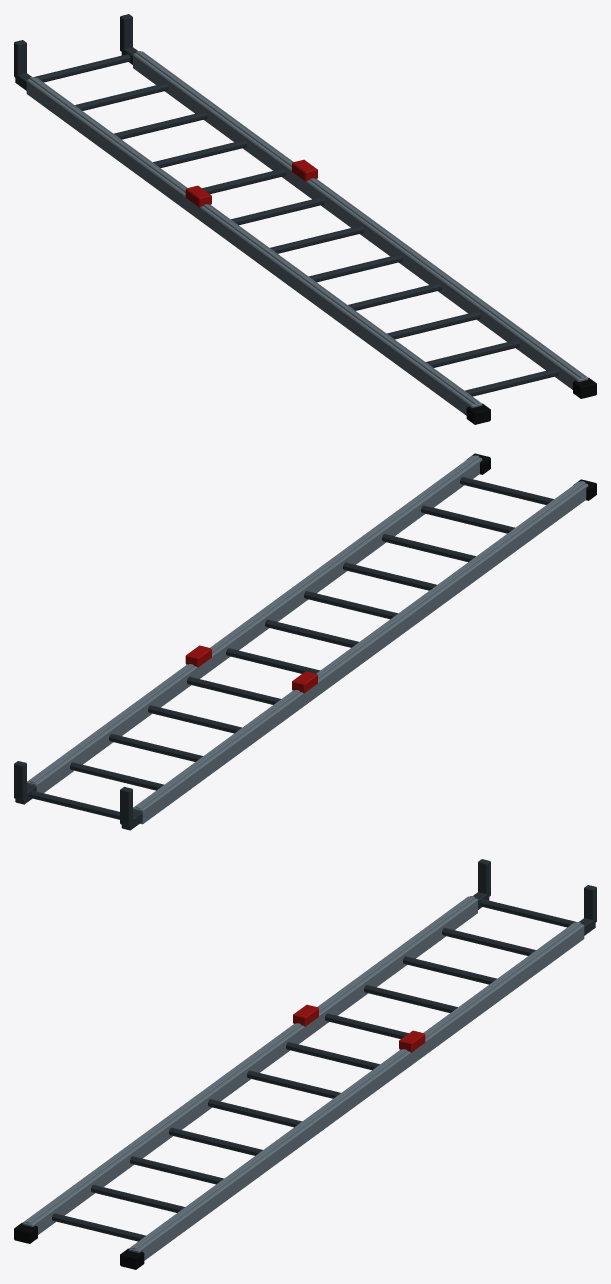
Rendered from RESCUE_02_RescueLadder.obj.
3 views of the same model, one above another, from view 1: azimuth 30°, elevation 25°; view 2: azimuth 150°, elevation 25°; view 3: azimuth 330°, elevation 25° (orthographic).
Visible parts, largest first — view 1: RESCUE_02_RescueLadder_Rail_L, RESCUE_02_RescueLadder_Rail_R, RESCUE_02_RescueLadder_Rungs, RESCUE_02_RescueLadder_Hooks, RESCUE_02_RescueLadder_Extension_Lock, RESCUE_02_RescueLadder_Foot_Pads; view 2: RESCUE_02_RescueLadder_Rail_L, RESCUE_02_RescueLadder_Rail_R, RESCUE_02_RescueLadder_Rungs, RESCUE_02_RescueLadder_Hooks, RESCUE_02_RescueLadder_Extension_Lock; view 3: RESCUE_02_RescueLadder_Rail_R, RESCUE_02_RescueLadder_Rail_L, RESCUE_02_RescueLadder_Rungs, RESCUE_02_RescueLadder_Hooks, RESCUE_02_RescueLadder_Extension_Lock, RESCUE_02_RescueLadder_Foot_Pads.
Boxes of the visible parts, left/top/right/bottom form: RESCUE_02_RescueLadder_Rail_L: left=26, top=77, right=482, bottom=415; RESCUE_02_RescueLadder_Rail_R: left=133, top=51, right=588, bottom=389; RESCUE_02_RescueLadder_Rungs: left=35, top=54, right=558, bottom=396; RESCUE_02_RescueLadder_Hooks: left=14, top=14, right=137, bottom=90; RESCUE_02_RescueLadder_Extension_Lock: left=185, top=159, right=317, bottom=207; RESCUE_02_RescueLadder_Foot_Pads: left=466, top=377, right=596, bottom=424; RESCUE_02_RescueLadder_Rail_L: left=133, top=481, right=588, bottom=824; RESCUE_02_RescueLadder_Rail_R: left=27, top=455, right=482, bottom=793; RESCUE_02_RescueLadder_Rungs: left=30, top=477, right=553, bottom=819; RESCUE_02_RescueLadder_Hooks: left=14, top=761, right=142, bottom=830; RESCUE_02_RescueLadder_Extension_Lock: left=185, top=645, right=317, bottom=693; RESCUE_02_RescueLadder_Rail_R: left=128, top=922, right=584, bottom=1260; RESCUE_02_RescueLadder_Rail_L: left=22, top=896, right=477, bottom=1234; RESCUE_02_RescueLadder_Rungs: left=52, top=899, right=575, bottom=1241; RESCUE_02_RescueLadder_Hooks: left=473, top=859, right=596, bottom=935; RESCUE_02_RescueLadder_Extension_Lock: left=293, top=1004, right=425, bottom=1052; RESCUE_02_RescueLadder_Foot_Pads: left=14, top=1222, right=144, bottom=1269.
Bounding box in the file's own units: 0.51 × 0.17 × 3.34.
